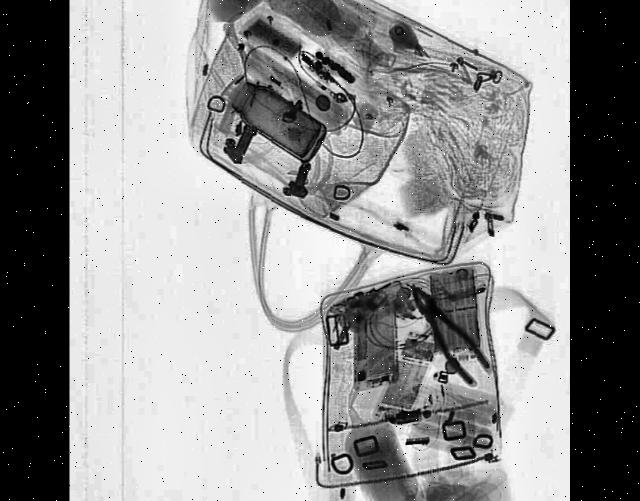Pliers: (399, 268, 492, 394)
